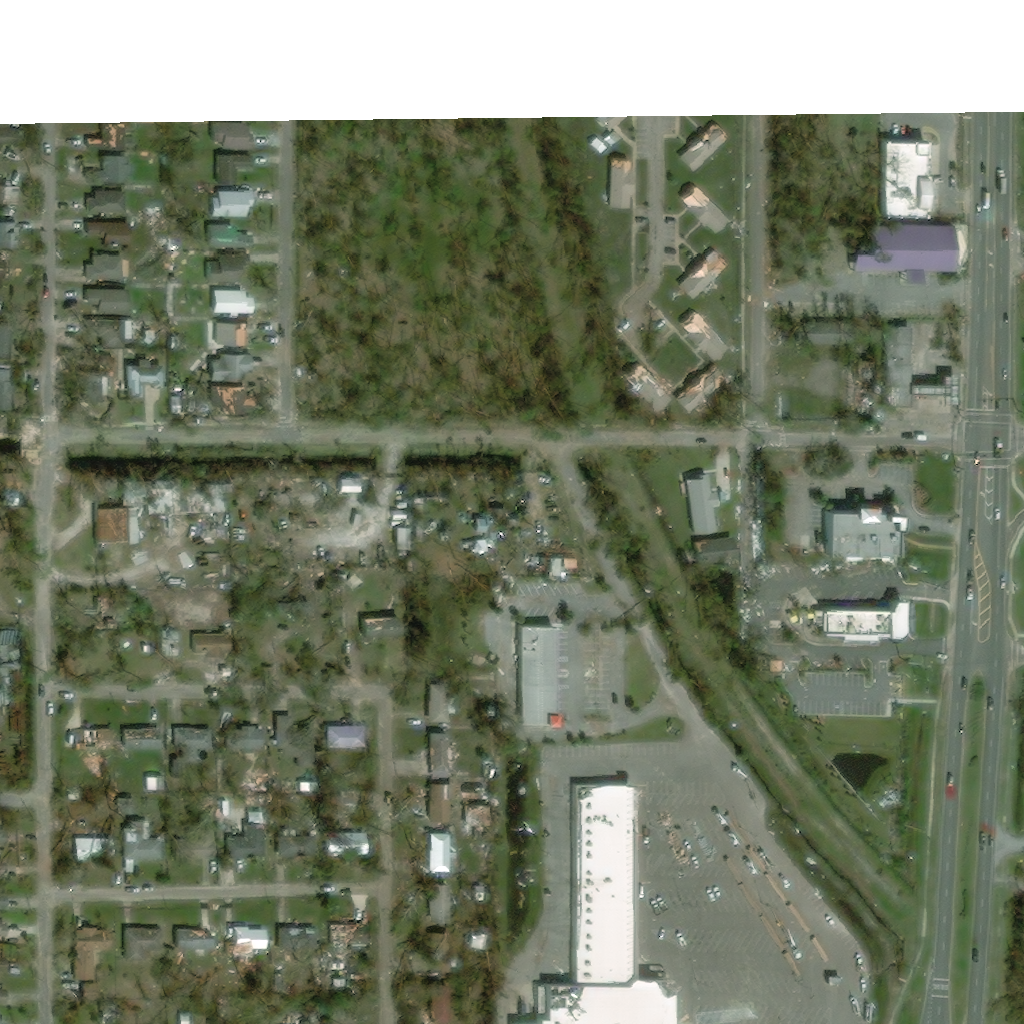destroyed: (515, 540, 574, 577), (843, 360, 869, 410), (73, 725, 111, 751), (270, 602, 309, 613), (6, 943, 27, 962), (0, 922, 20, 941), (117, 799, 136, 816), (352, 910, 365, 923)
major_damage: (532, 784, 672, 1023), (884, 326, 954, 408), (684, 477, 732, 552), (677, 185, 728, 236), (677, 249, 726, 301), (678, 123, 728, 173), (679, 309, 727, 360), (72, 927, 110, 980), (607, 157, 632, 210), (223, 926, 263, 949), (215, 321, 252, 345), (123, 728, 159, 749), (208, 385, 233, 412)
minor_damage: (819, 504, 891, 555), (95, 504, 136, 542), (128, 365, 163, 399), (429, 734, 455, 779), (206, 225, 245, 249), (426, 981, 448, 1022), (224, 727, 261, 749), (225, 837, 264, 857), (172, 727, 210, 747), (427, 934, 446, 970), (78, 842, 111, 860), (361, 618, 390, 636)
no_damage: (876, 132, 938, 221), (847, 229, 949, 282), (814, 590, 907, 639), (514, 621, 556, 724), (270, 714, 313, 757), (121, 820, 160, 860), (87, 157, 132, 185), (207, 122, 252, 150), (208, 192, 254, 219), (217, 150, 251, 185), (172, 830, 212, 859), (423, 833, 451, 872), (85, 320, 124, 347), (209, 289, 249, 315), (428, 784, 454, 824), (205, 255, 242, 283), (218, 352, 252, 380), (87, 223, 131, 244), (85, 291, 127, 313), (86, 191, 125, 214), (88, 254, 123, 279), (123, 928, 148, 960), (598, 112, 639, 131), (277, 836, 309, 856), (0, 185, 17, 205), (589, 138, 607, 155), (604, 131, 621, 148), (191, 632, 215, 643), (0, 230, 9, 245), (0, 221, 15, 228)
unclassified: (172, 1013, 187, 1023)
